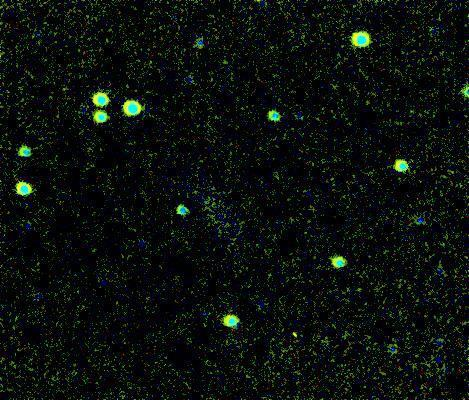star: (278, 320, 308, 350)
